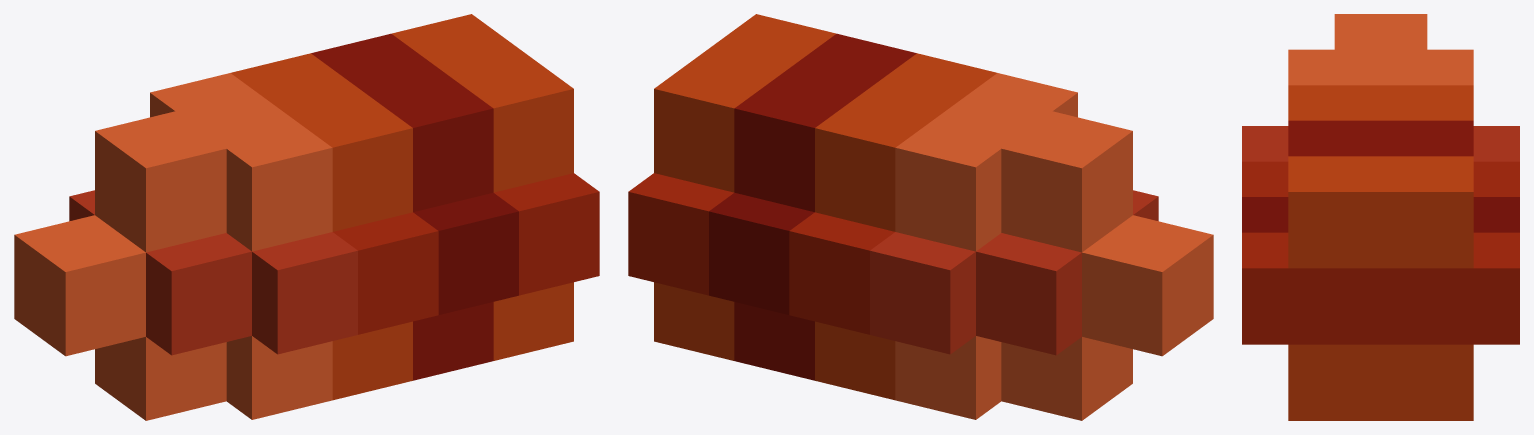
The model's file is Cannon_Q6O_Sassee_shot_2.obj.
3 views of the same model, side by side, from view 1: azimuth 30°, elevation 25°; view 2: azimuth 150°, elevation 25°; view 3: azimuth 270°, elevation 25° (orthographic). The views are drawn at different scales.
Bounding box in the file's own units: 6 × 3 × 3.3.
